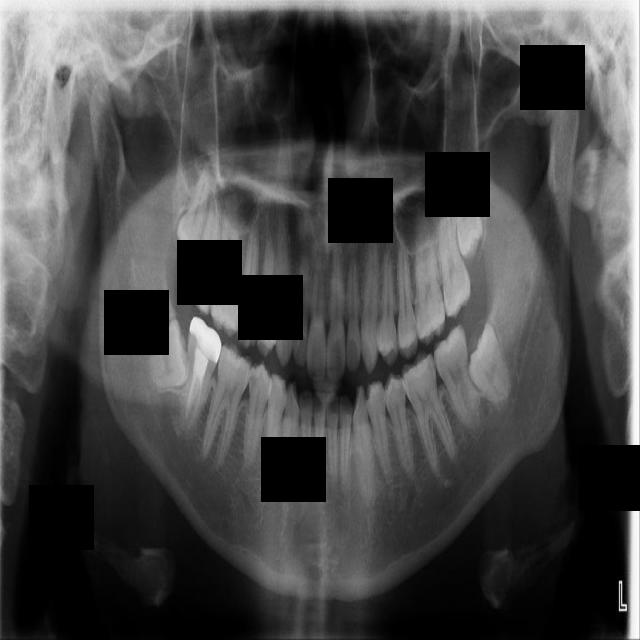3M ESPE Implant: (171, 159, 215, 265)
52: (185, 316, 225, 384)
73: (177, 361, 211, 439), (576, 541, 580, 559)
BioHorizons Implant: (433, 172, 473, 320)
BioLife Implant: (448, 159, 485, 261)
Biomet 3i Implant: (454, 319, 517, 410)
Blue Sky Bio Implant: (427, 322, 486, 434)
Caries: (178, 185, 231, 315)
Implant: (174, 314, 226, 440)
Keystone Dental Implant: (143, 317, 191, 392)
